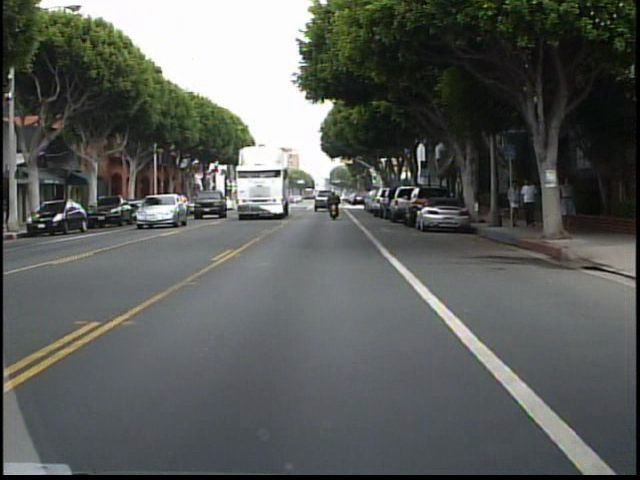person: (558, 174, 577, 232), (520, 175, 540, 230), (505, 177, 522, 230), (325, 187, 344, 219)
